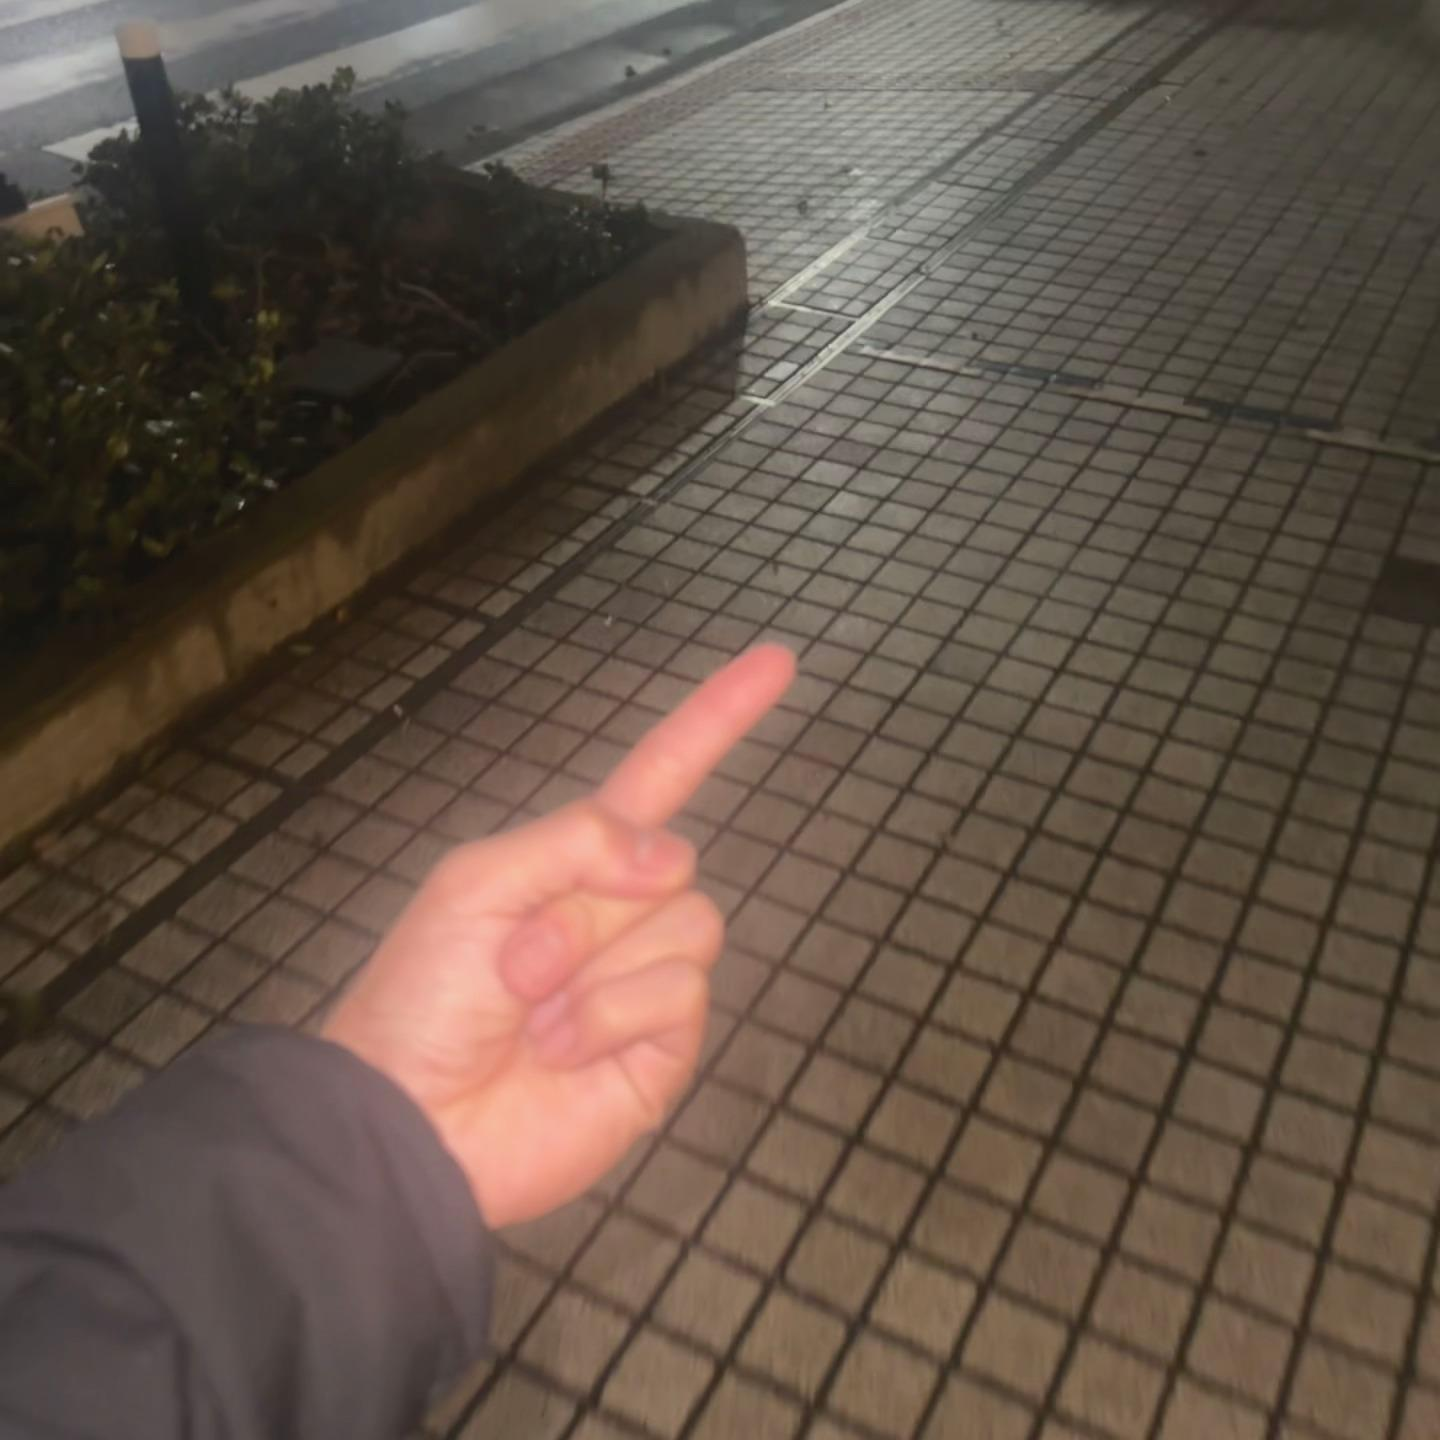without_gloves: (372, 495, 959, 1228)
